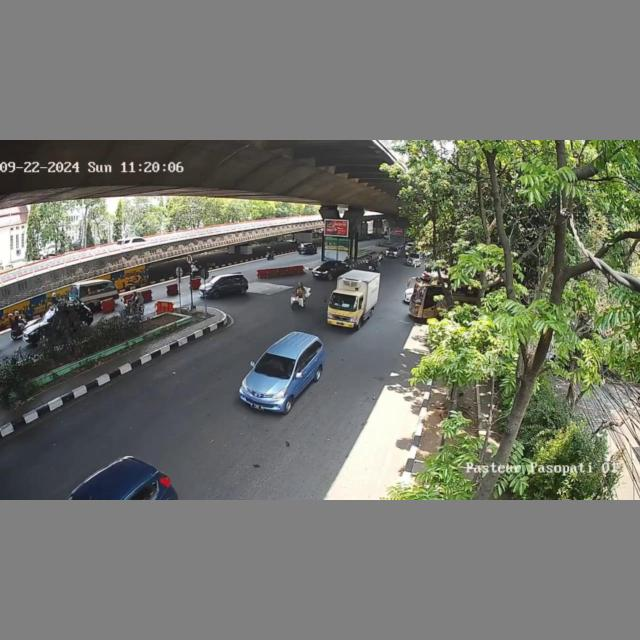windshield: (255, 353, 296, 380), (329, 293, 358, 310)
